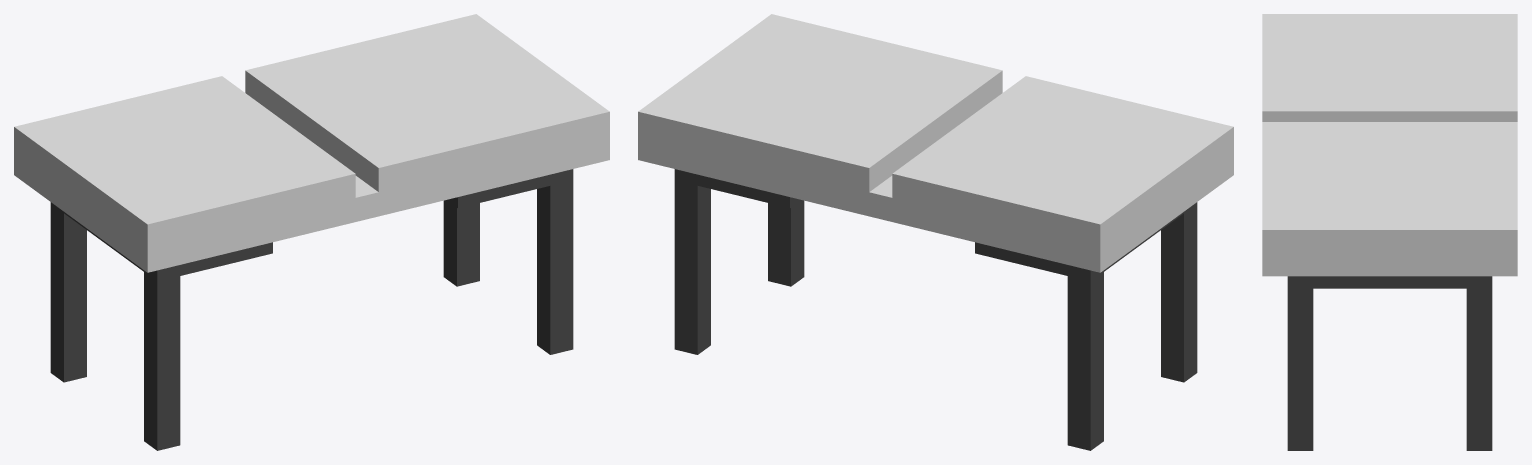
The model's file is Table.obj.
The picture shows the model from 3 angles, left to right: view 1: azimuth 30°, elevation 25°; view 2: azimuth 150°, elevation 25°; view 3: azimuth 270°, elevation 25°; orthographic projection. The views are drawn at different scales.
Bounding box in the file's own units: 2 × 1 × 1.
1 material, 1 textured.
